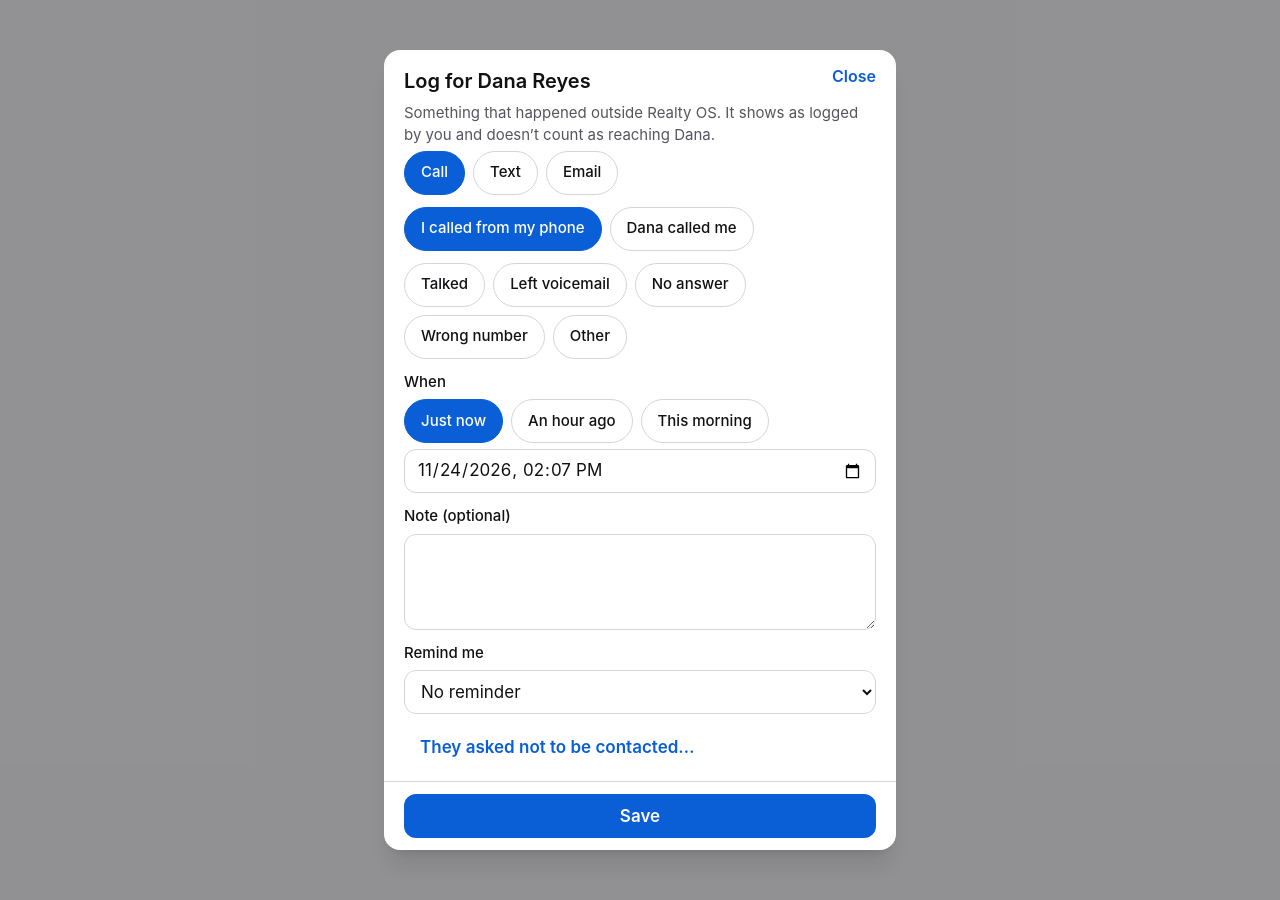
Test: M6 (E775): Log → outcome → one button saves the log and confirms the stage › the log itself fails: nothing is claimed, the fields stay, and the retry sends the same noteId (one note)
Click the button "No answer" at [690, 285], box [635,263,746,307]
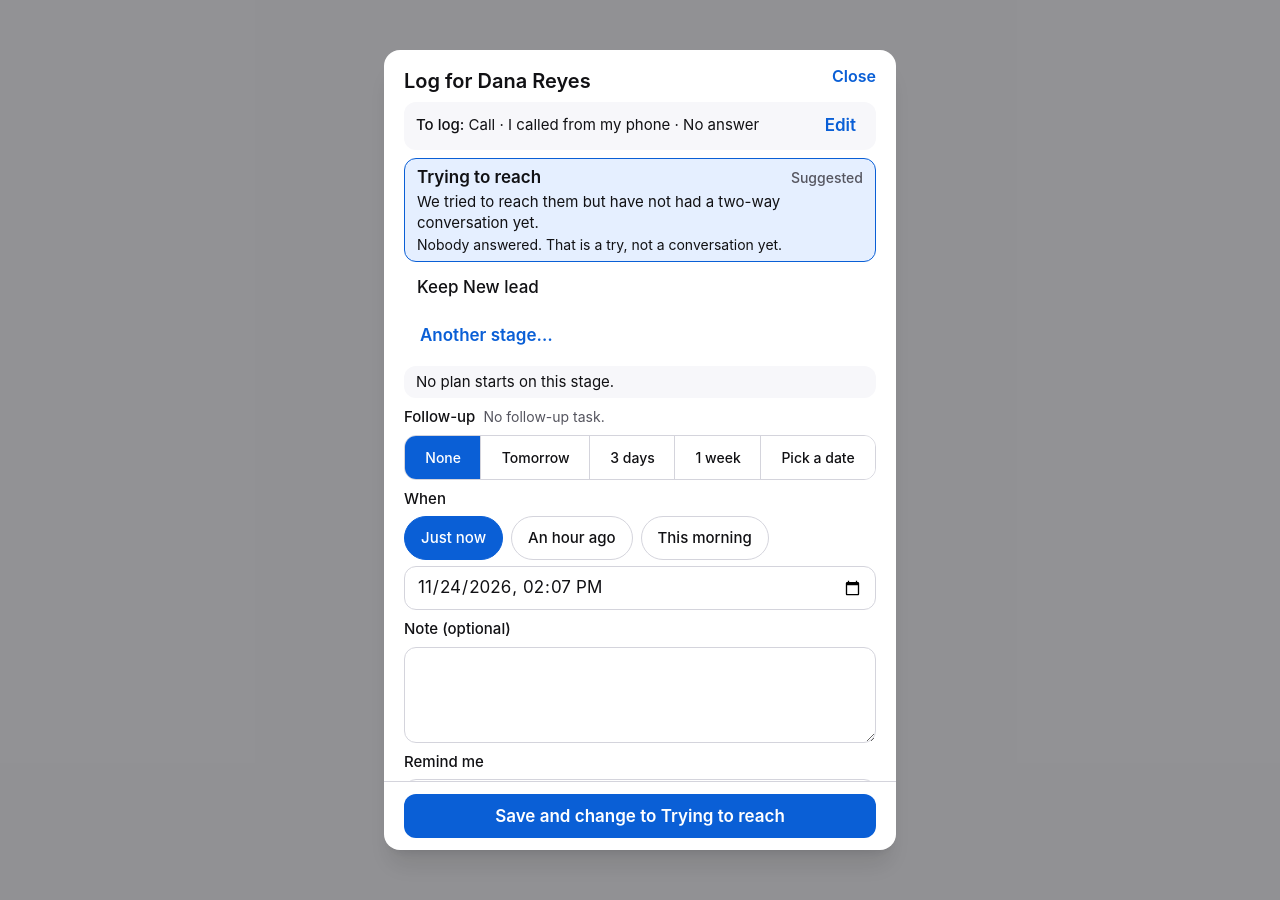
Click the button with test id "log-save" at [640, 816], box [404,794,876,838]
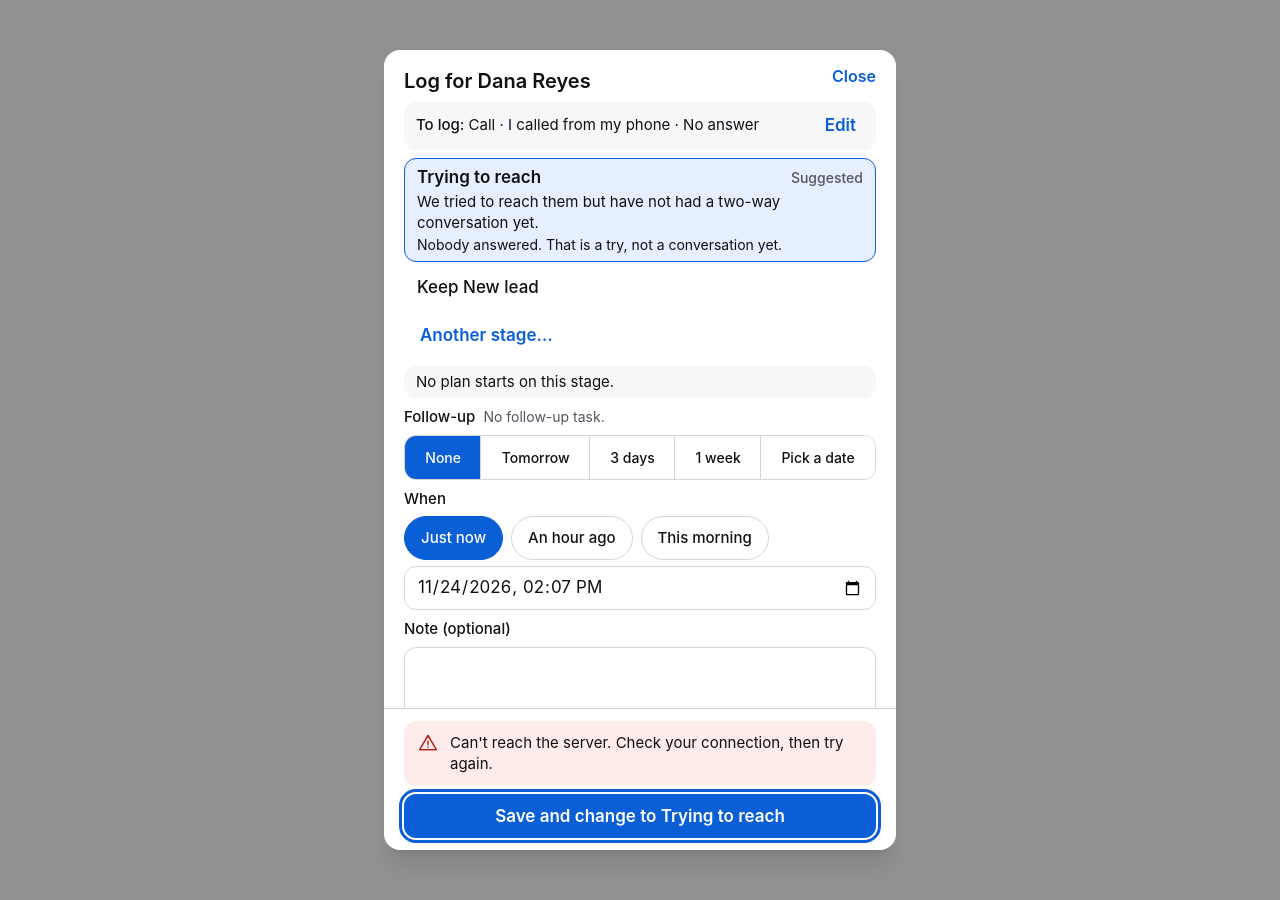
Now the button with test id "log-save" reads "Save and change to Trying to reach"
Now the message reads "Can't reach the server. Check your connection, then try again.", box [450,733,844,773]
Click the button with test id "log-save" at [640, 816], box [404,794,876,838]
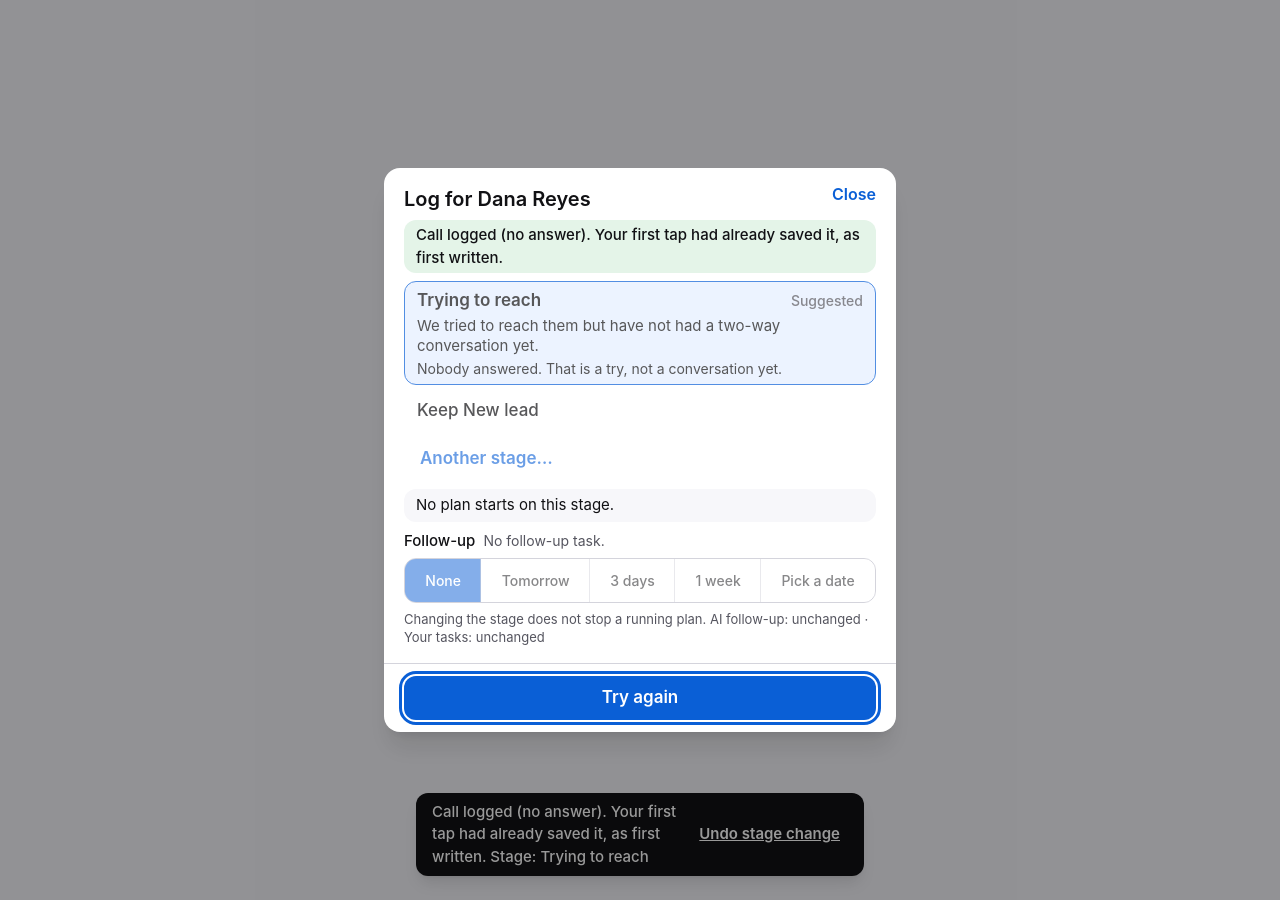
Now the text "Call logged (no answer). Your first tap had already saved it, as first written. Stage: Trying to reach" is shown, box [432,802,676,866]
